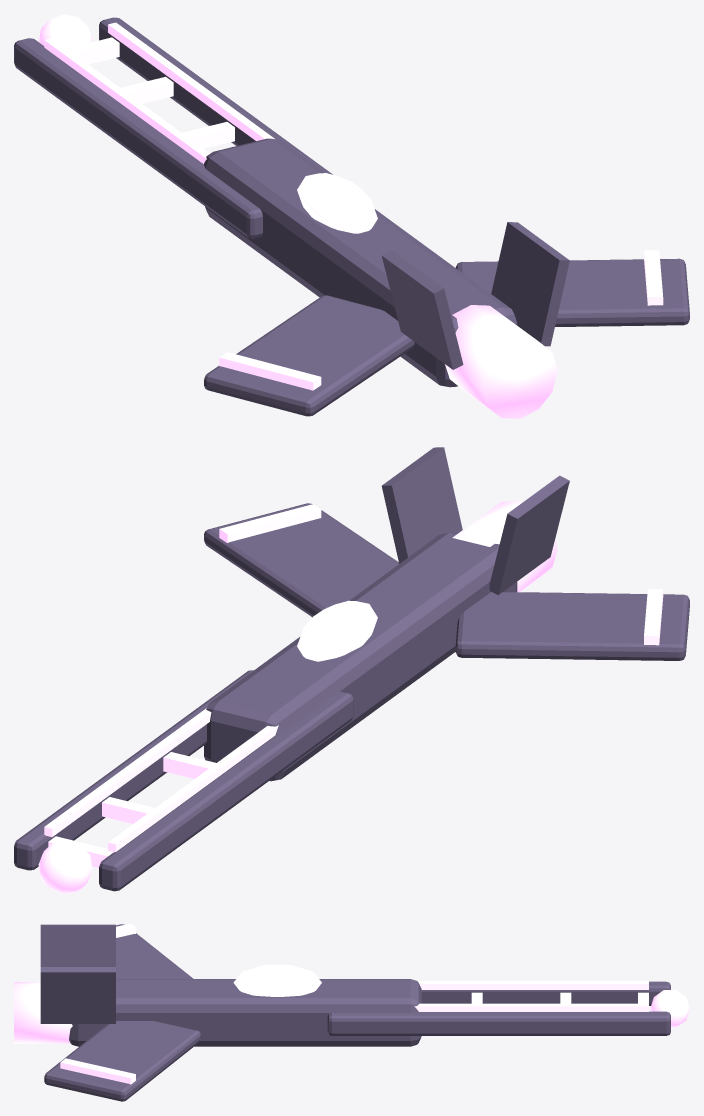
Rendered from ship_lance.glb.
3 renders of one model, top to bottom at view 1: azimuth 30°, elevation 25°; view 2: azimuth 150°, elevation 25°; view 3: azimuth 270°, elevation 25°, orthographic. The views are drawn at different scales.
Visible parts, largest first — view 1: hull, wing, rail, wing.001, engine, fin.001, fin, rail.001, cockpit, rail_glow.001, rail_glow, wing_glow (+5 smaller); view 2: hull, wing, wing.001, rail, fin.001, rail.001, fin, cockpit, rail_glow.001, rail_glow, tip, engine (+4 smaller); view 3: hull, rail.001, wing.001, fin.001, fin, rail, cockpit, engine, wing, rail_glow.001, rail_glow, tip (+1 smaller).
Part boxes in pixels (box(x1,y1,x2,y2)): hull: box(204, 138, 517, 387); wing: box(204, 295, 414, 416); rail: box(14, 38, 262, 238); wing.001: box(455, 258, 689, 326); engine: box(445, 305, 557, 418); fin.001: box(491, 222, 569, 346); fin: box(381, 250, 463, 369); rail.001: box(99, 17, 332, 174); cockpit: box(297, 173, 377, 233); rail_glow.001: box(108, 22, 274, 140); rail_glow: box(44, 38, 209, 163); wing_glow: box(219, 352, 321, 390); hull: box(204, 532, 517, 781); wing: box(455, 592, 689, 660); wing.001: box(204, 503, 398, 617); rail: box(99, 691, 353, 891); fin.001: box(381, 447, 462, 563); rail.001: box(14, 670, 253, 870); fin: box(489, 475, 569, 595); cockpit: box(297, 600, 377, 661); rail_glow.001: box(44, 708, 211, 836); rail_glow: box(108, 725, 278, 852); tip: box(38, 840, 92, 894); engine: box(452, 501, 557, 592); hull: box(69, 979, 421, 1046); rail.001: box(327, 1011, 670, 1035); wing.001: box(44, 1021, 200, 1101); fin.001: box(40, 967, 115, 1023); fin: box(40, 924, 115, 966); rail: box(421, 981, 670, 1005); cockpit: box(233, 965, 321, 996); engine: box(14, 982, 72, 1043); wing: box(116, 924, 193, 978); rail_glow.001: box(414, 1003, 648, 1011); rail_glow: box(417, 981, 648, 989); tip: box(650, 990, 689, 1027).
Bounding box in the file's own units: 1.8 × 0.4704 × 3.05.
